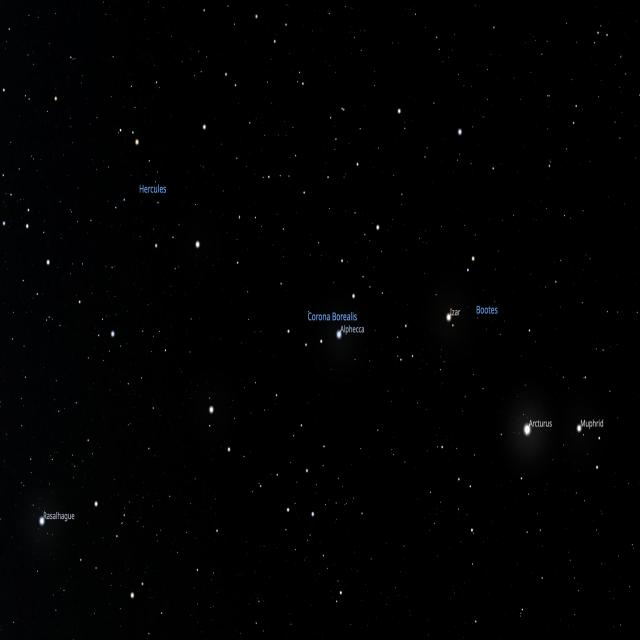Corona Borealis: (272, 252, 366, 362)
